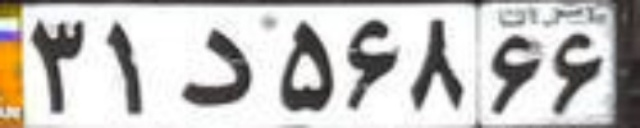1: (105, 22, 142, 114)
3: (32, 20, 92, 113)
5: (280, 19, 333, 112)
6: (343, 18, 398, 110), (550, 30, 601, 115), (488, 33, 537, 115)
8: (409, 18, 464, 110)
dal: (176, 27, 253, 106)
